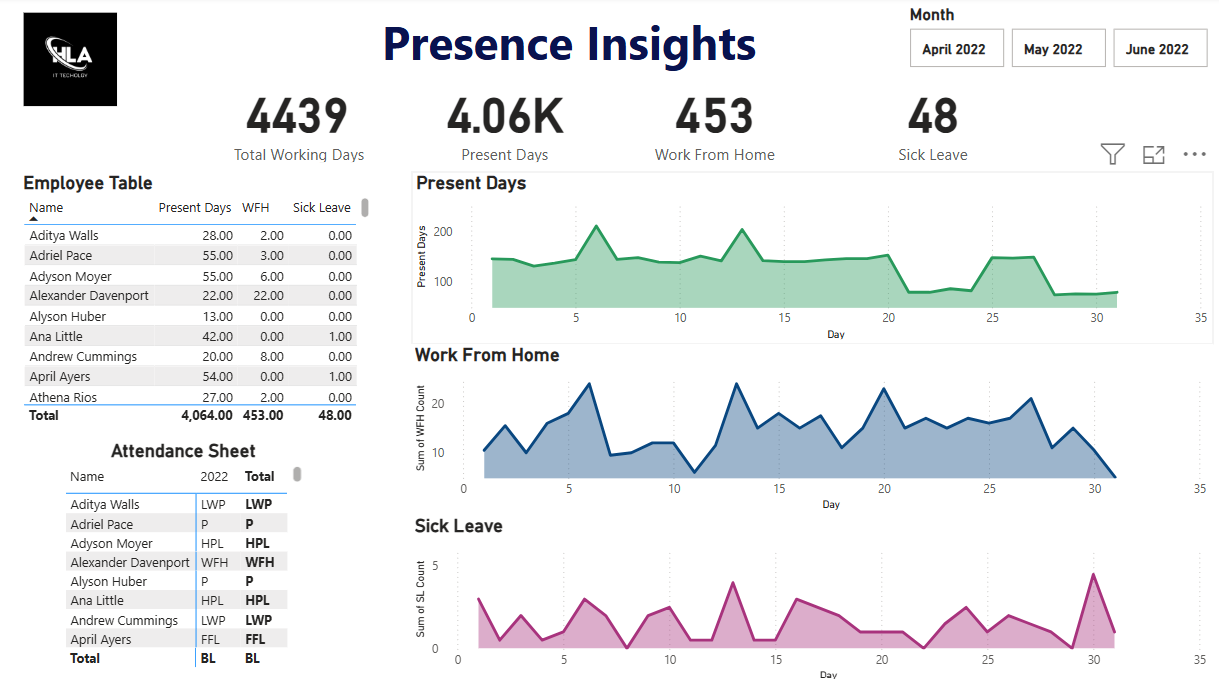

The dashboard page shown, as its layout file describes it:
{"tool":"powerbi","page":{"name":"Page 1","canvas":[1280,720],"ordinal":0},"visuals":[{"type":"card","fields":{"Values":["Table (2).TotalWorkingDays"]},"box":[221.9,79.7,176.6,98.5],"z":0},{"type":"advancedSlicerVisual","fields":{"Values":["Final data.Month"]},"box":[944.8,9.5,322.9,70],"z":1000},{"type":"card","fields":{"Values":["Final data.Present Days"]},"box":[439.2,79.7,175.1,98.5],"z":2000},{"type":"card","fields":{"Values":["Sum(Final data.WFH Count)"]},"box":[651.8,79.7,187.6,98.5],"z":3000},{"type":"card","fields":{"Values":["Sum(Final data.SL Count)"]},"box":[878.4,79.7,189.1,98.5],"z":4000},{"type":"tableEx","title":"Employee Table","fields":{"Values":["Final data.Name","Final data.Present Days","Sum(Final data.WFH Count)","Sum(Final data.SL Count)"]},"box":[20.7,182.9,370.6,268.8],"z":5000},{"type":"pivotTable","title":"Attendance Sheet","fields":{"Values":["Min(Final data.Value)"],"Rows":["Final data.Name"],"Columns":["Final data.Date.Variation.Date Hierarchy.Year","Final data.Date.Variation.Date Hierarchy.Quarter","Final data.Date.Variation.Date Hierarchy.Month","Final data.Date.Variation.Date Hierarchy.Day"]},"box":[63.6,462.9,256.1,241.8],"z":6000},{"type":"image","box":[20.8,9.4,107.7,113.4],"z":7000},{"type":"areaChart","title":"Present Days","fields":{"Category":["Final data.Date.Variation.Date Hierarchy.Day"],"Y":["Final data.Present Days"]},"box":[429.5,182.9,836.7,179.7],"z":8000},{"type":"areaChart","title":"Work From Home","fields":{"Category":["Final data.Date.Variation.Date Hierarchy.Day"],"Y":["Sum(Final data.WFH Count)"]},"box":[429,362.8,837.2,177.6],"z":9000},{"type":"areaChart","title":"Sick Leave","fields":{"Category":["Final data.Date.Variation.Date Hierarchy.Day"],"Y":["Sum(Final data.SL Count)"]},"box":[429,540.5,837.2,177.6],"z":10000},{"type":"textbox","box":[359.5,9.4,468.9,95.3],"z":11000}]}

Visuals, with their boxes in screenshot pixels (x1, y1, x2, y2), scaled from the page's 1280x720 canvas onto the 1219x679 screenshot:
card - Table (2).TotalWorkingDays: locate(211, 75, 380, 168)
advancedSlicerVisual - Final data.Month: locate(900, 9, 1207, 75)
card - Final data.Present Days: locate(418, 75, 585, 168)
card - Sum(Final data.WFH Count): locate(621, 75, 799, 168)
card - Sum(Final data.SL Count): locate(837, 75, 1017, 168)
"Employee Table" tableEx: locate(20, 172, 373, 426)
"Attendance Sheet" pivotTable: locate(61, 437, 304, 665)
image: locate(20, 9, 122, 116)
"Present Days" areaChart: locate(409, 172, 1206, 342)
"Work From Home" areaChart: locate(409, 342, 1206, 510)
"Sick Leave" areaChart: locate(409, 510, 1206, 677)
textbox: locate(342, 9, 789, 99)
